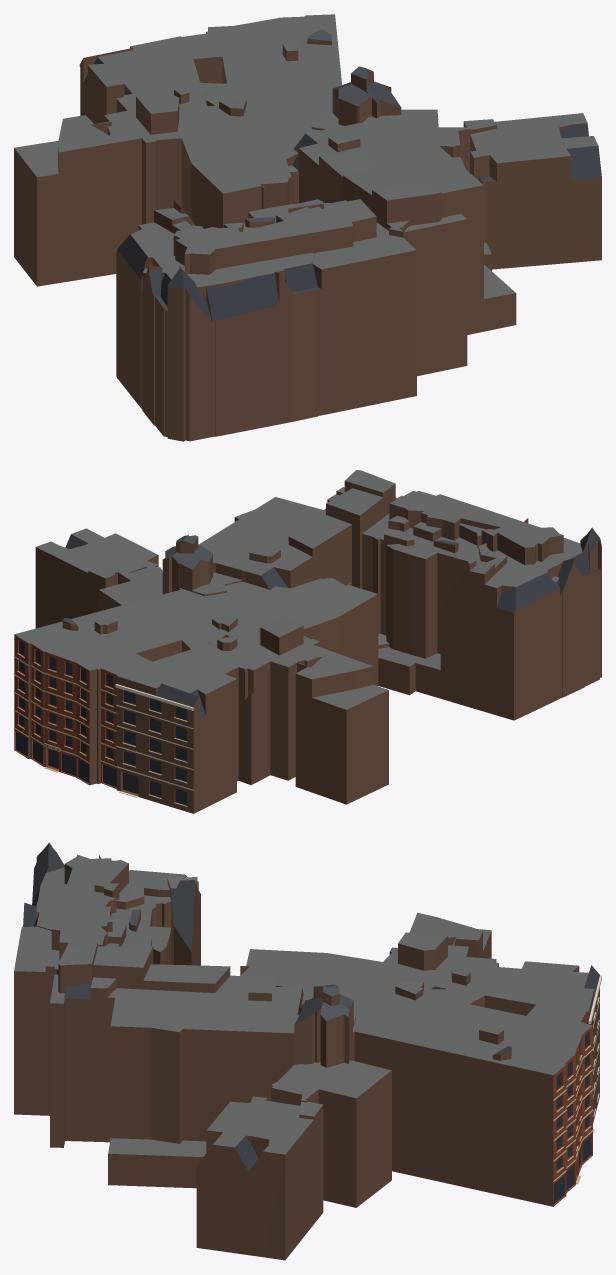
File: recipe-large-amstel-142-186290.glb
3 views of the same model, one above another, from view 1: azimuth 30°, elevation 25°; view 2: azimuth 150°, elevation 25°; view 3: azimuth 270°, elevation 25° (orthographic). The views are drawn at different scales.
Visible parts, largest first — view 1: amstel-142-186290; view 2: amstel-142-186290; view 3: amstel-142-186290.
Boxes of the visible parts, left/top/right/bottom form: amstel-142-186290: left=14, top=14, right=601, bottom=441; amstel-142-186290: left=14, top=470, right=601, bottom=813; amstel-142-186290: left=14, top=842, right=601, bottom=1260.
Size of the model in its own units: 73.8 by 24.18 by 71.36.
